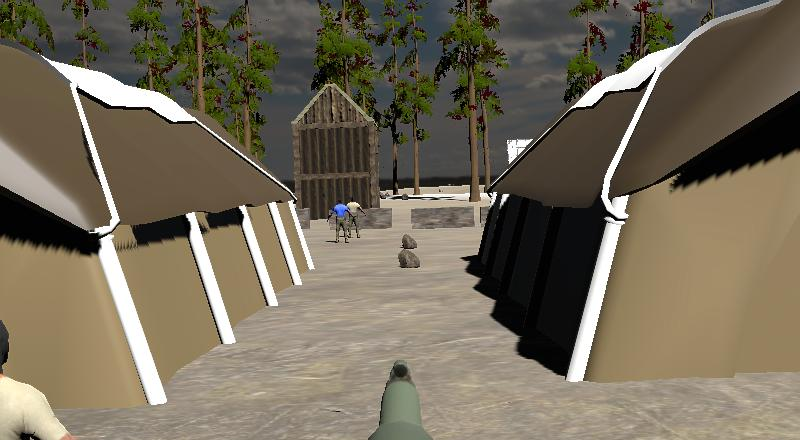House: (291, 81, 381, 219)
Human: (1, 304, 126, 440), (327, 198, 353, 243), (328, 197, 353, 243), (346, 195, 366, 237)
